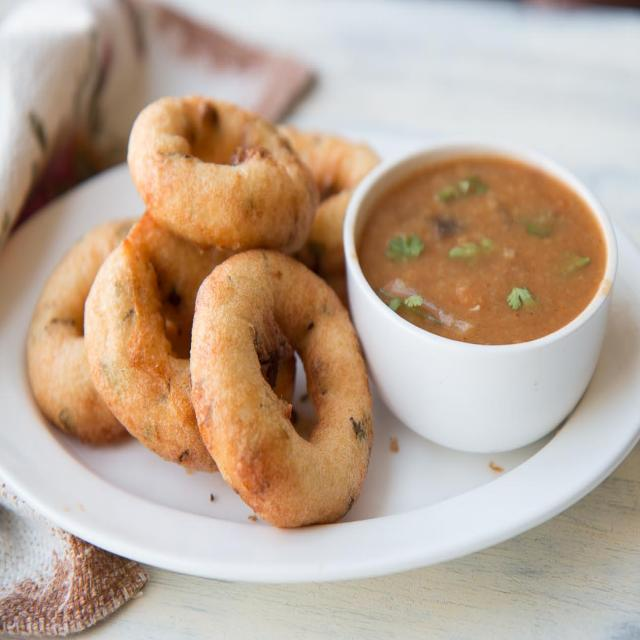MEDU VADA: (190, 246, 378, 513), (78, 209, 227, 475), (131, 70, 319, 253), (16, 218, 128, 445), (285, 128, 378, 248)
